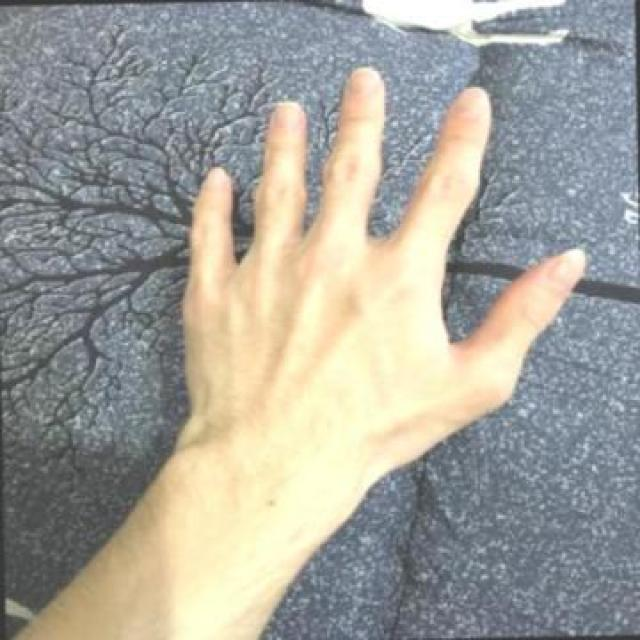hand: (173, 65, 588, 453)
